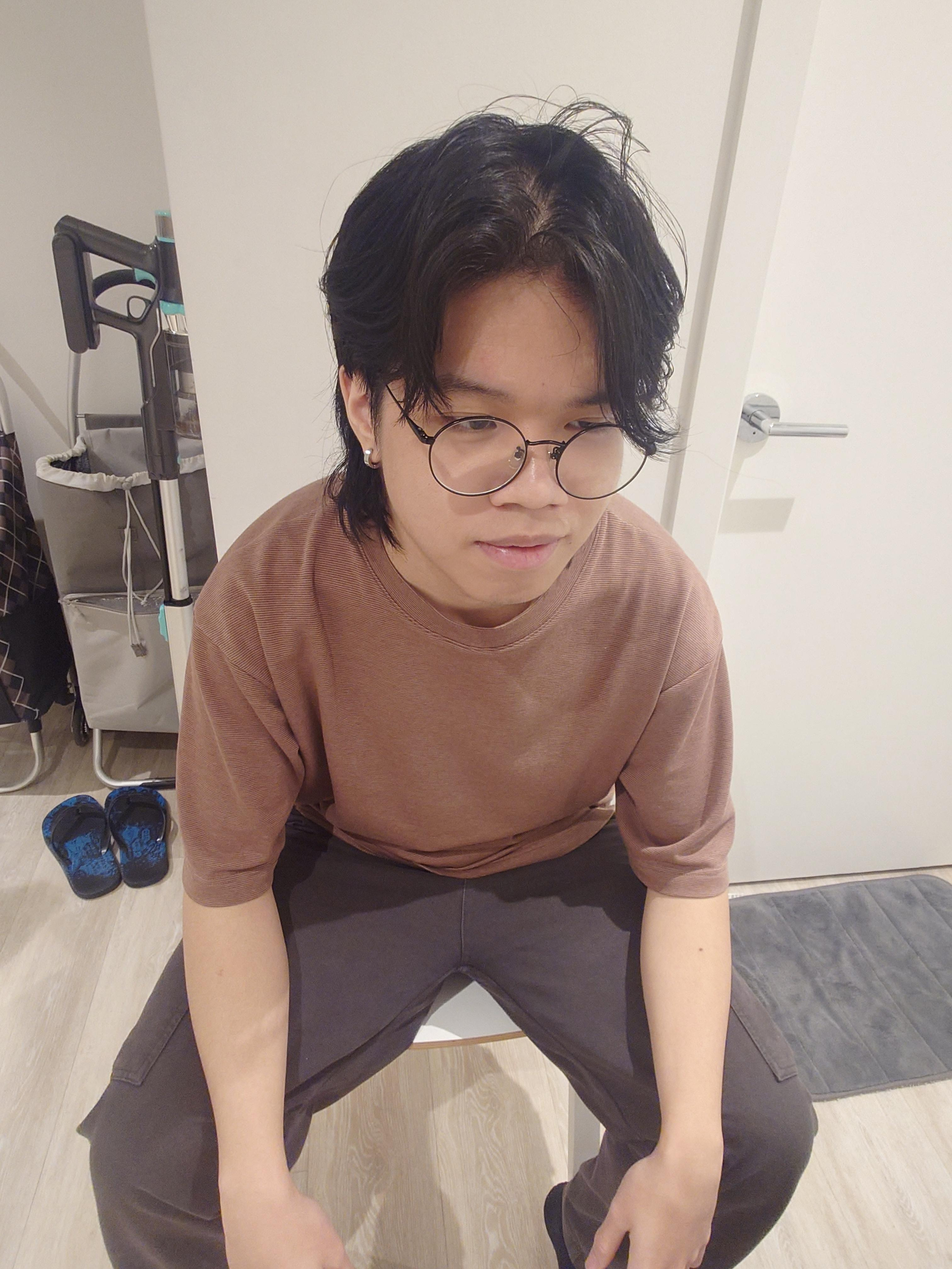BadPosture: (75, 112, 822, 1269)
